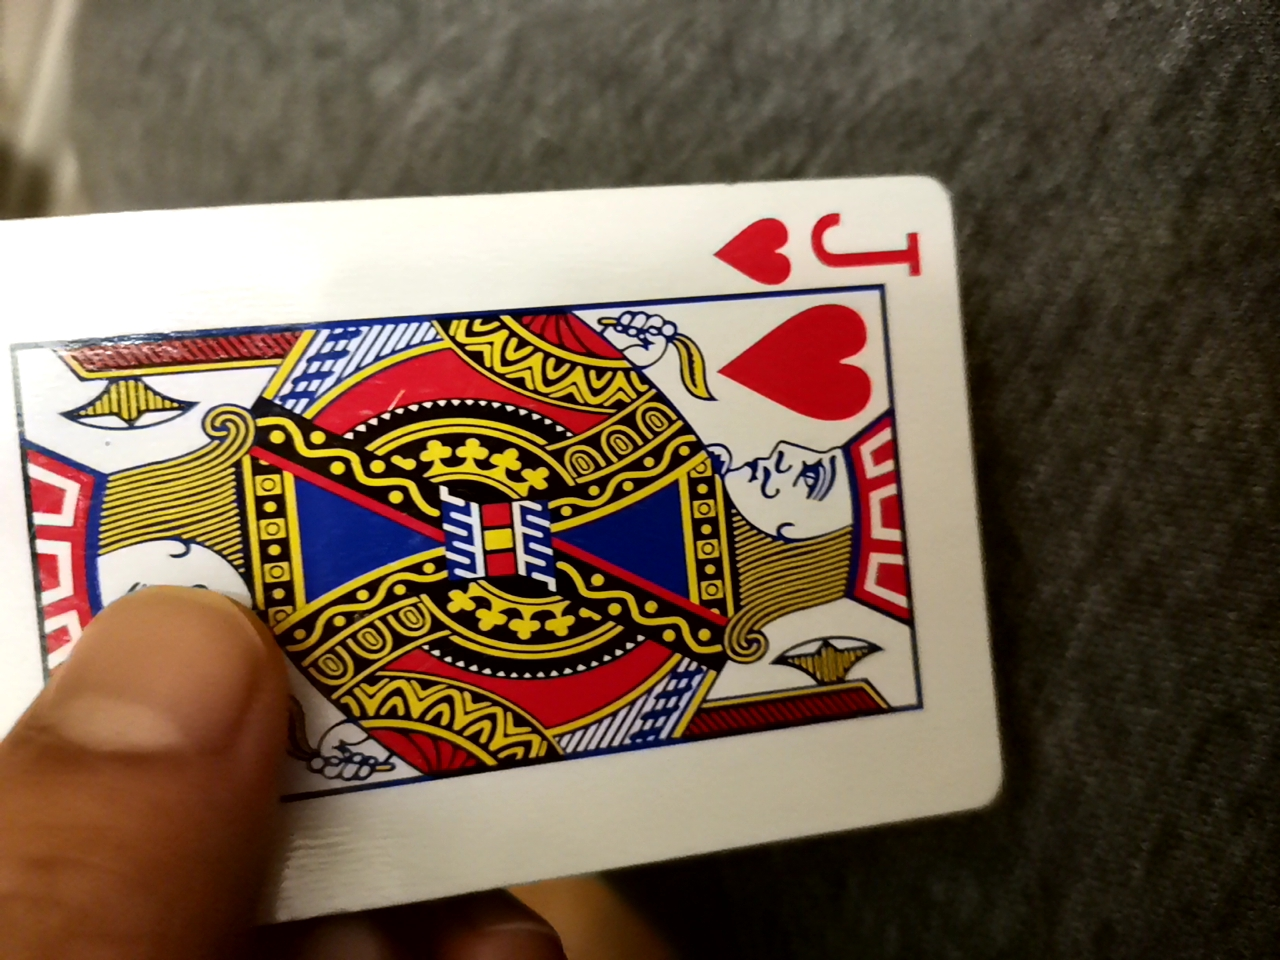hx j: (5, 169, 1014, 910)
